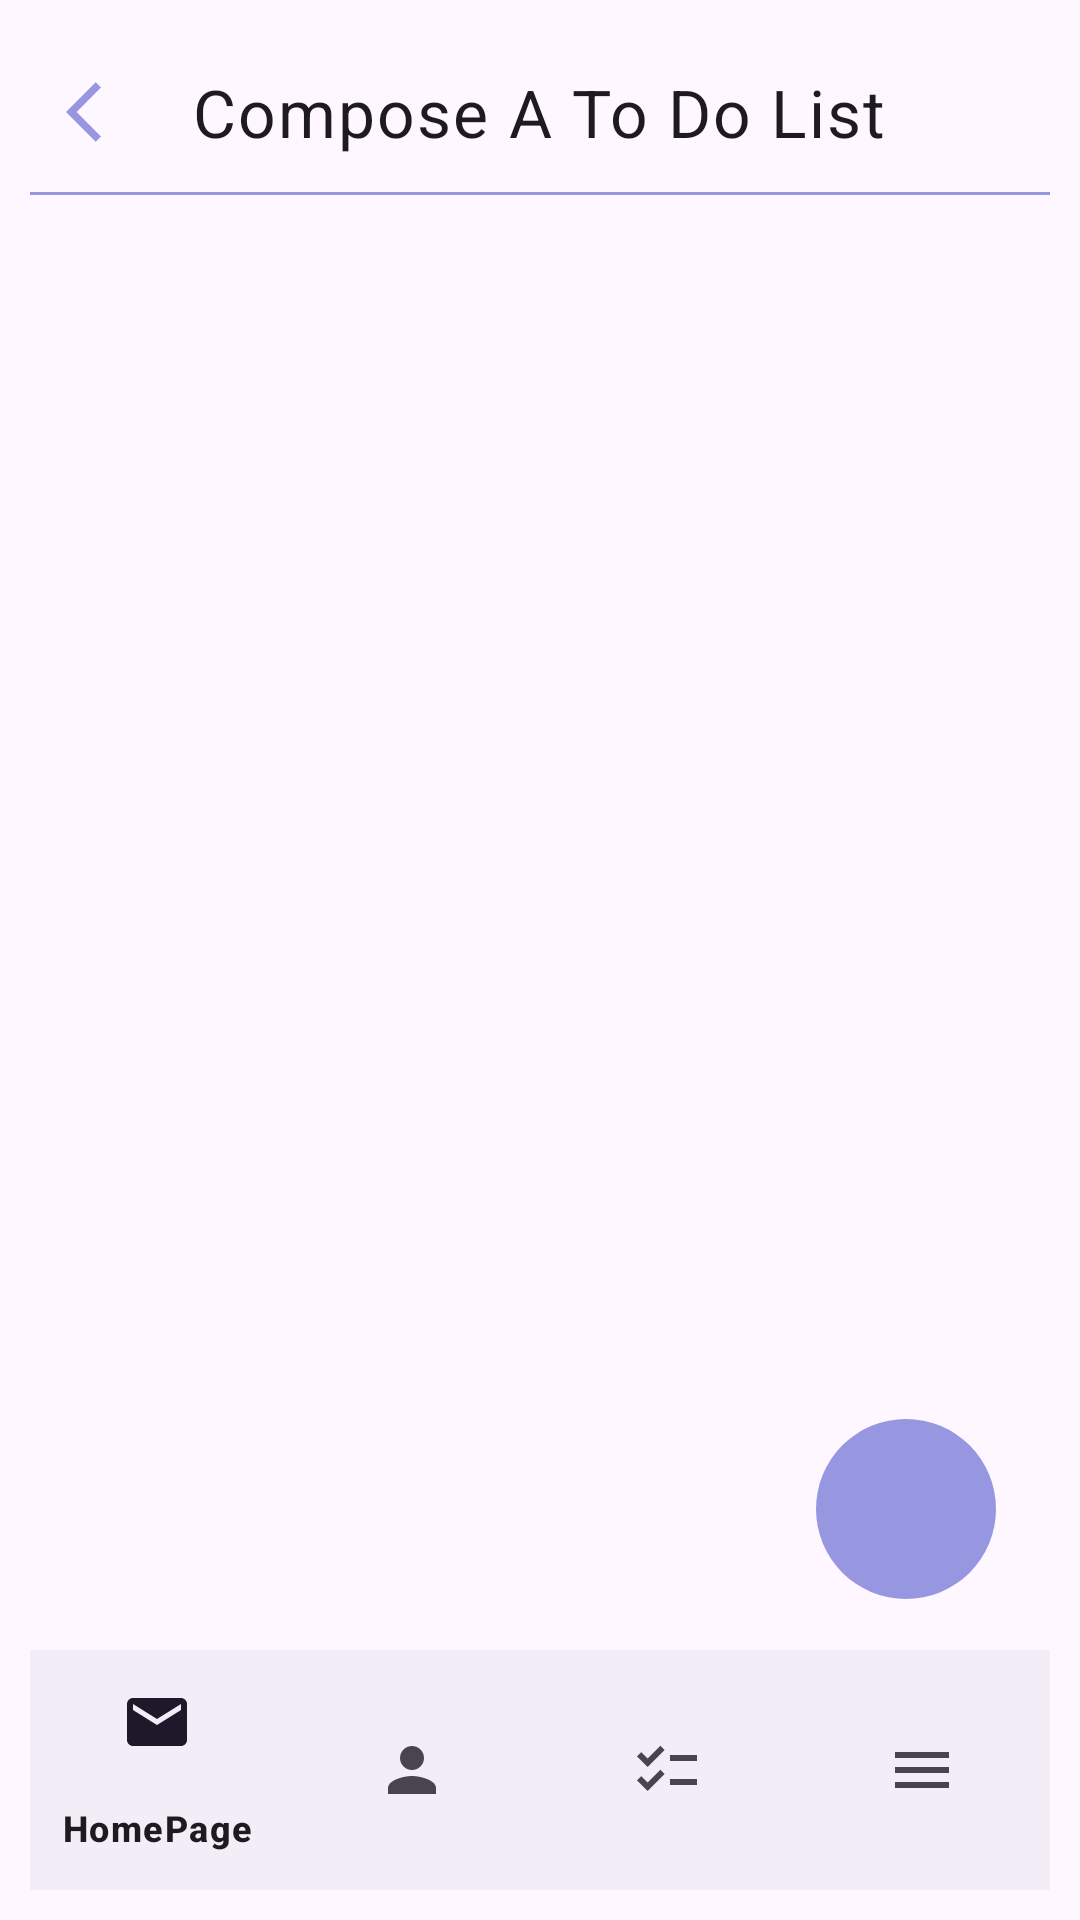

Icon bounding boxes for this 1080 × 1920 phone screenshot, format {"left": x1, "top": y1, "right": x2, "bottom": y2}:
Navigate back: {"left": 66, "top": 82, "right": 101, "bottom": 142}
